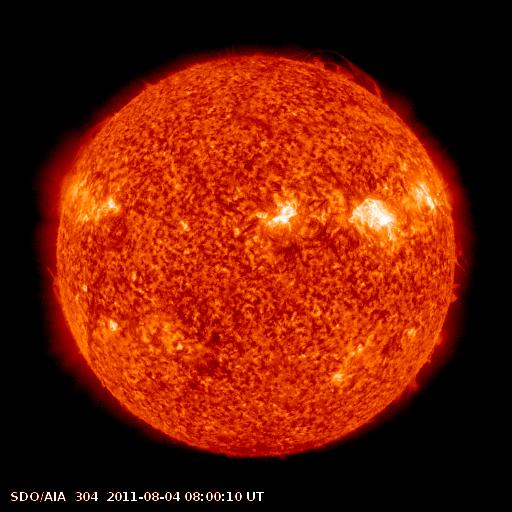prominence: (288, 41, 393, 103), (58, 109, 120, 211), (39, 262, 73, 309)
